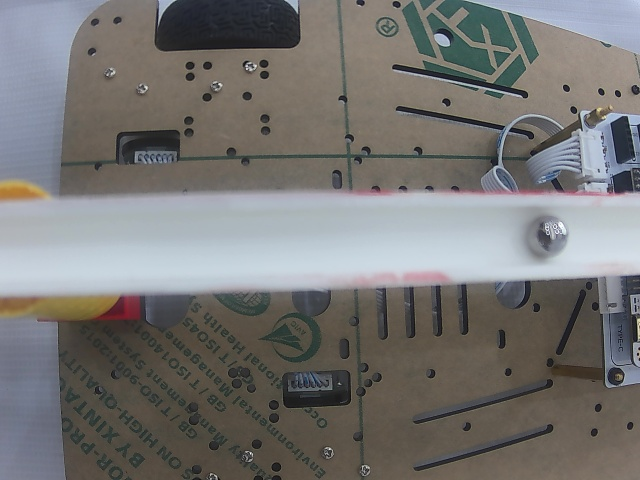steelball: (526, 215, 570, 258)
